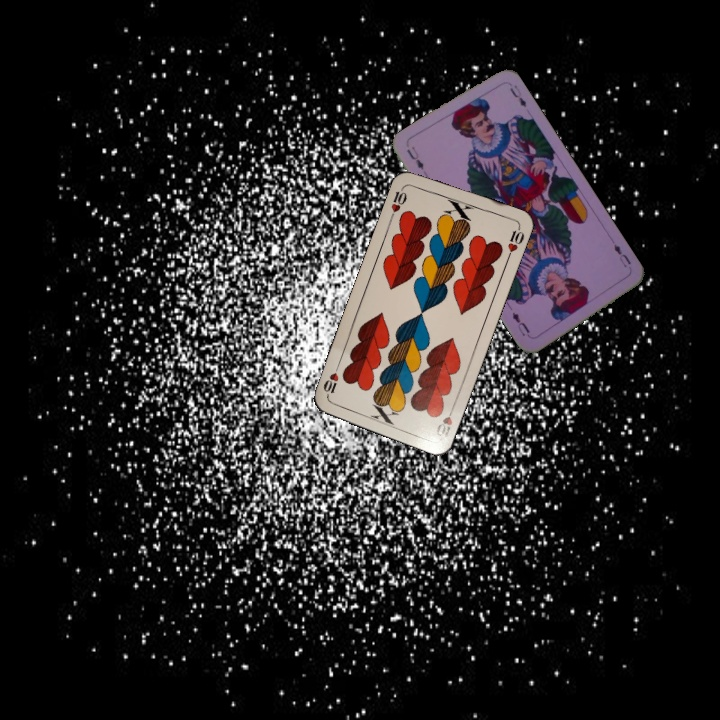EU: (610, 240, 633, 270), (403, 143, 426, 173)
H10: (432, 401, 457, 442), (387, 182, 409, 221)
